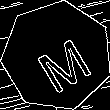M_NW: (24, 22, 90, 90)
